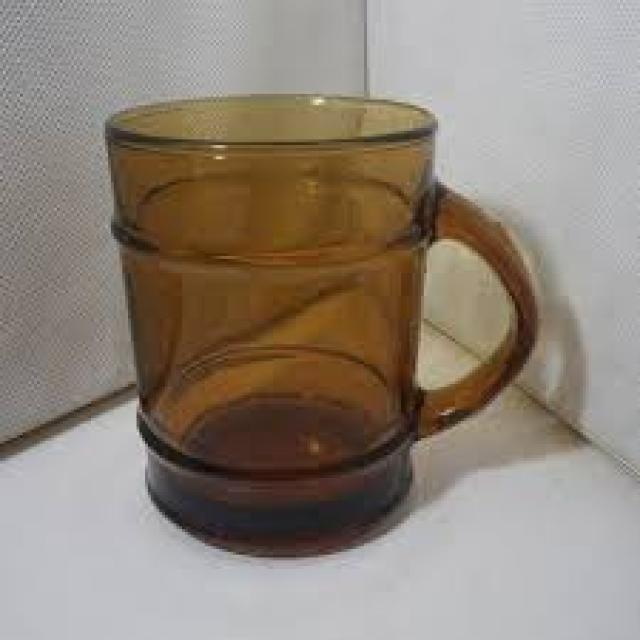glass: (105, 94, 532, 552)
